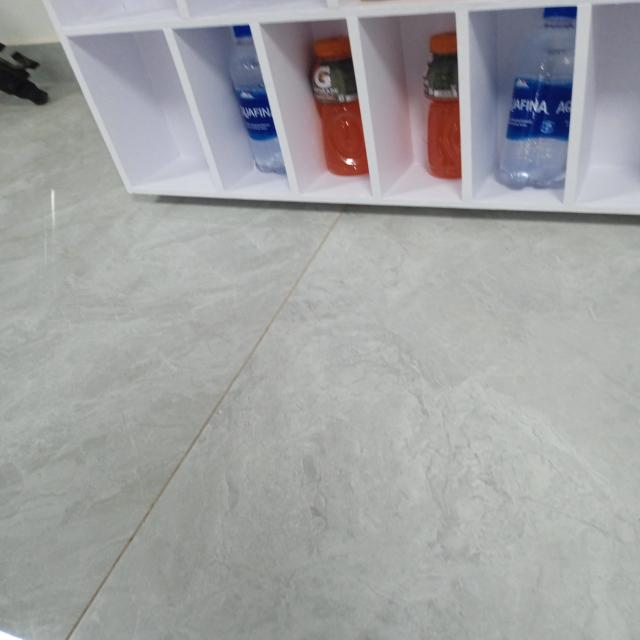Plastic: (502, 10, 578, 186), (306, 37, 372, 177), (234, 24, 292, 170), (422, 33, 458, 178)
